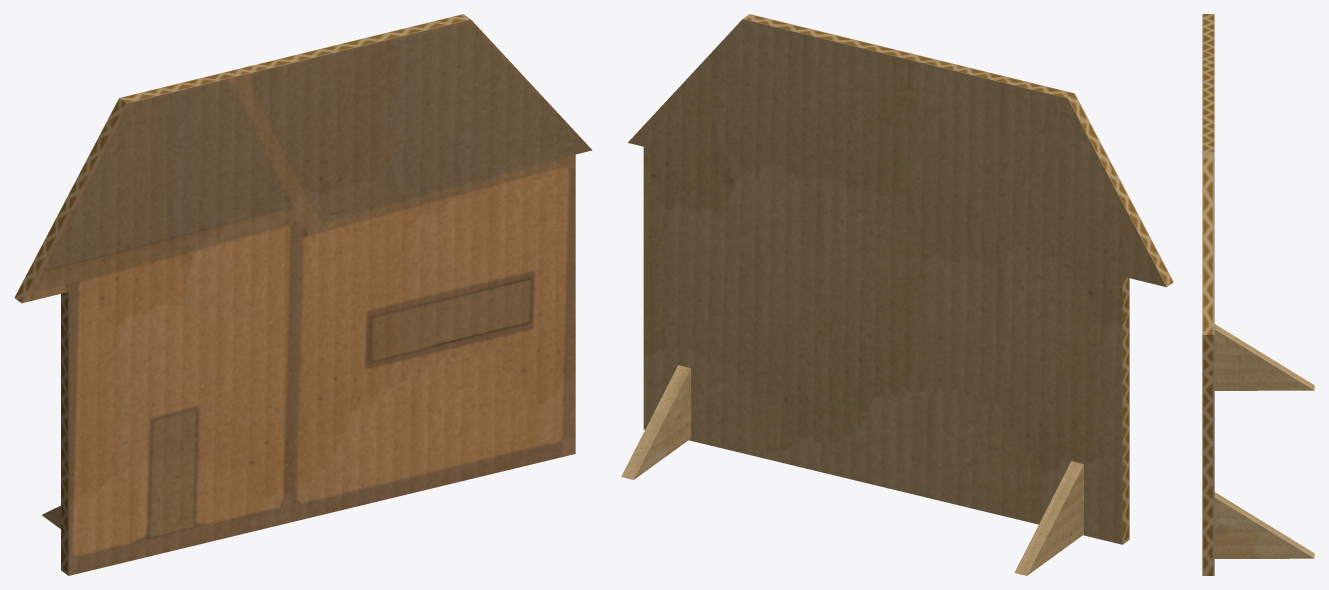
File: 01house.FBX
The picture shows the model from 3 angles, left to right: view 1: azimuth 30°, elevation 25°; view 2: azimuth 150°, elevation 25°; view 3: azimuth 270°, elevation 25°; orthographic projection. The views are drawn at different scales.
Parts seen in each view (by area): view 1: house; view 2: house; view 3: house.
Part boxes in pixels (left/top/right/bottom): house: left=14, top=14, right=592, bottom=575; house: left=621, top=14, right=1173, bottom=575; house: left=1202, top=14, right=1314, bottom=575.
Bounding box in the file's own units: 17.76 × 13.68 × 3.66.
1 material, 1 textured.
